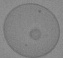small: (29, 27, 40, 39)
